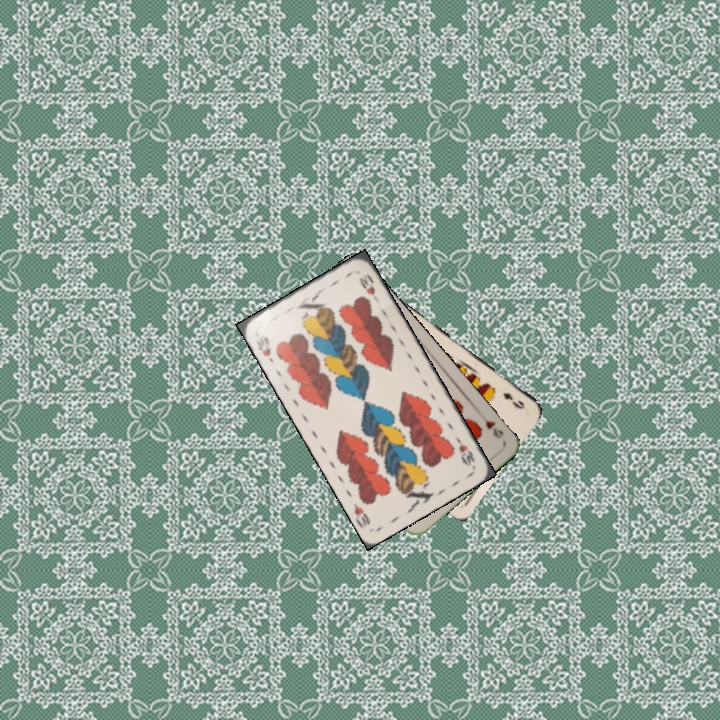E9: (499, 388, 527, 412)
H10: (451, 432, 478, 468), (252, 331, 276, 366)
H9: (476, 409, 506, 441)
